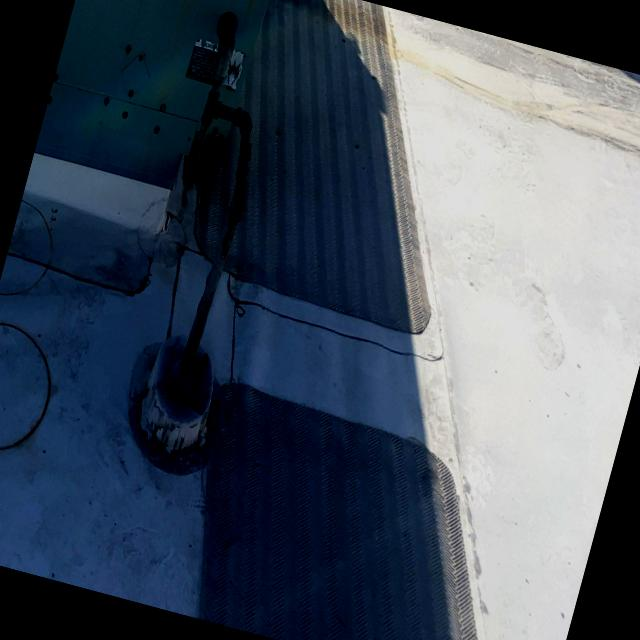RTU: (35, 0, 300, 202)
